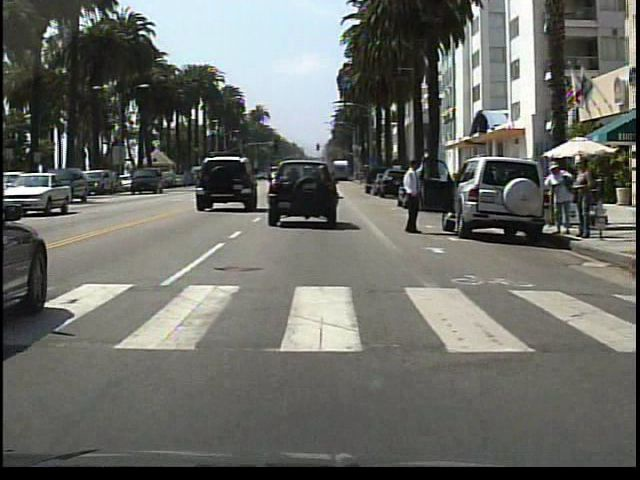person: (399, 153, 432, 241), (542, 156, 572, 241), (572, 155, 593, 242)
